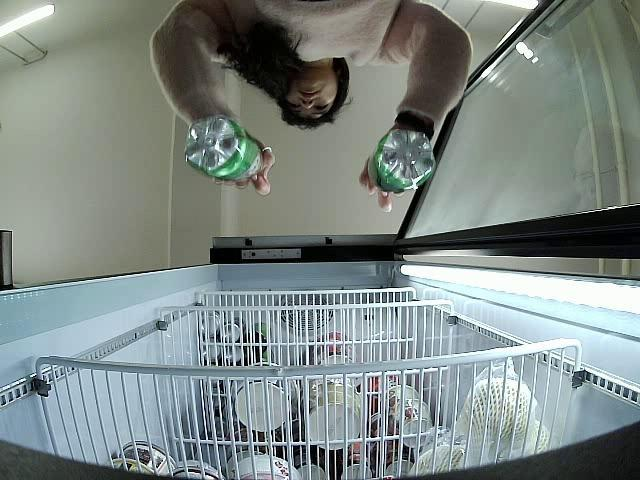18_trevi: (182, 115, 264, 181), (369, 130, 438, 191)
